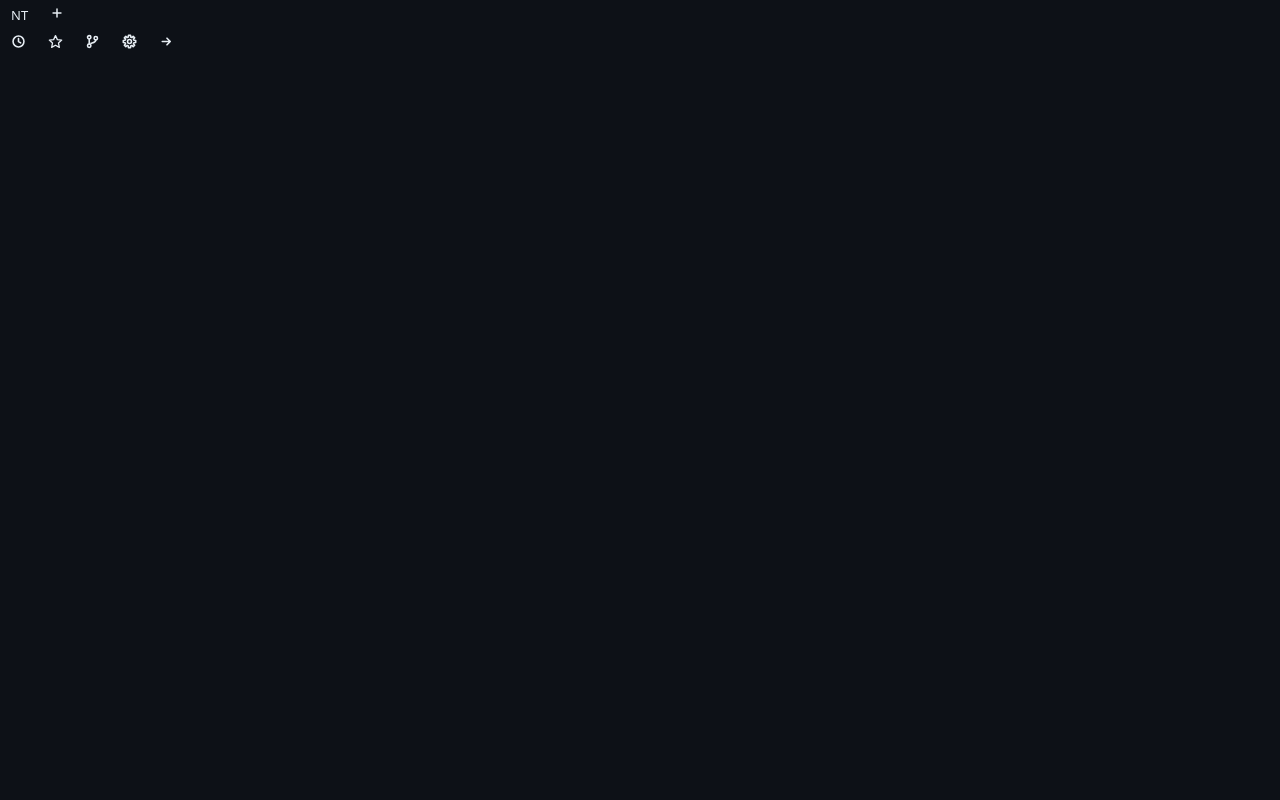
Test case: Kokpit rayı: karonun yanında ad ve renk › Esc vazgeçiyor; kutu sökülürken gelen odak kaybı kaydetmiyor
This screenshot has width=1280, height=800.
Right-click the button with class "grail-item" at (20, 15), box [0,2,39,28]
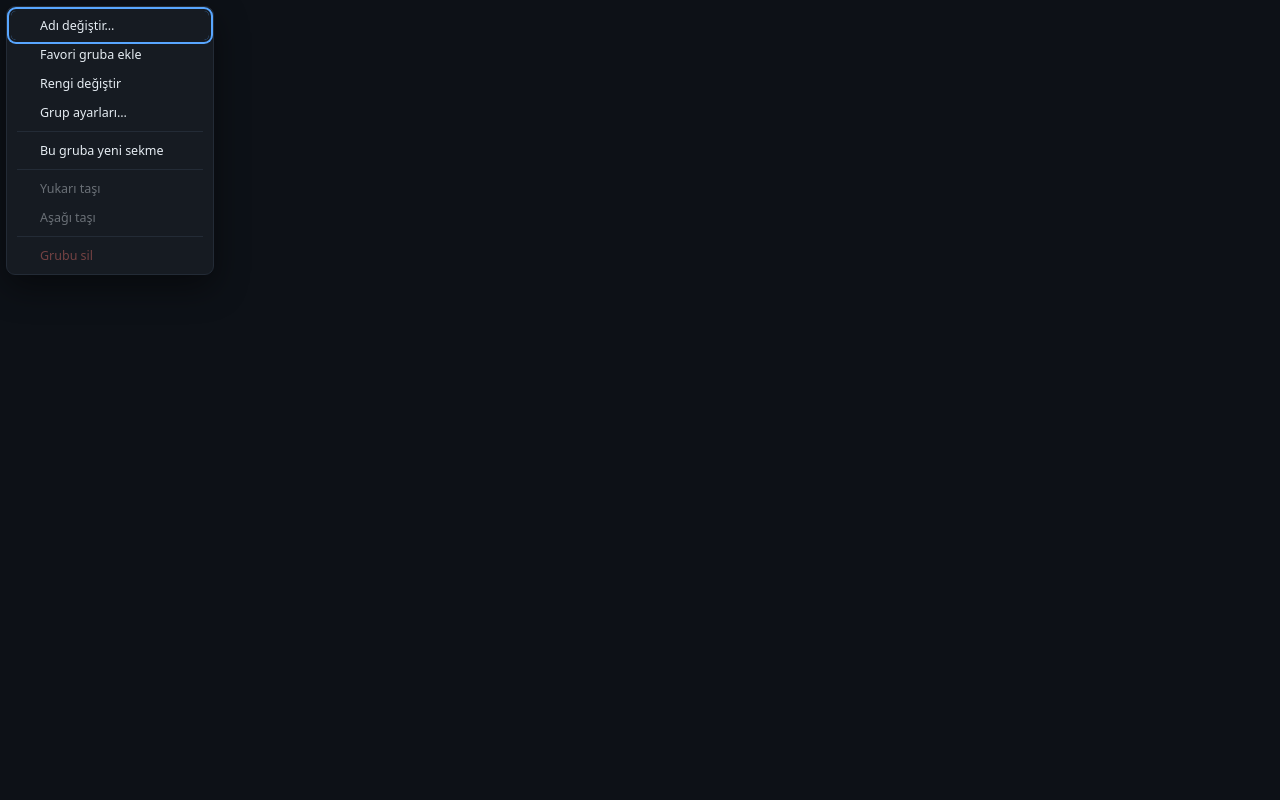
Click the menu item with class "ctx-item" showing "Adı değiştir…" at (110, 26), box [11,11,209,40]
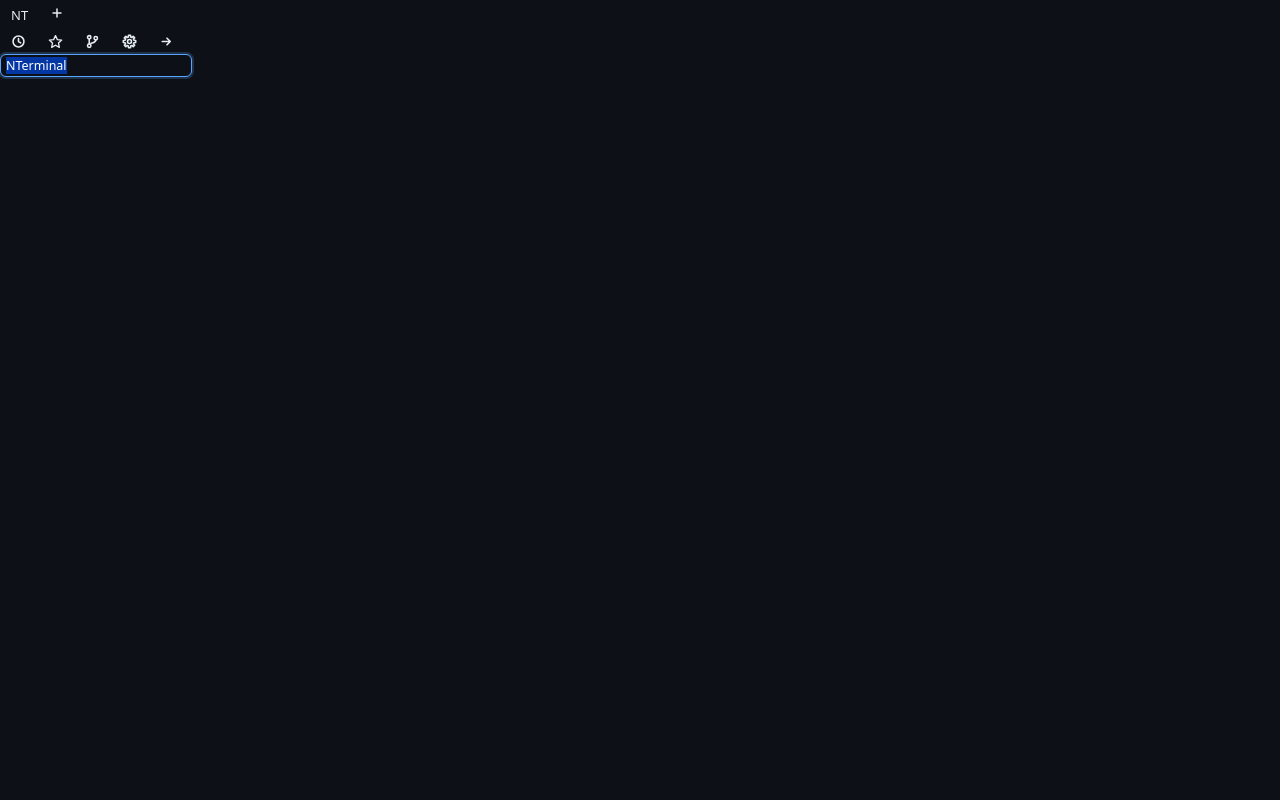
Replace the text in the field with class "rename-input" with "yarım" at (96, 66), box [0,54,192,77]
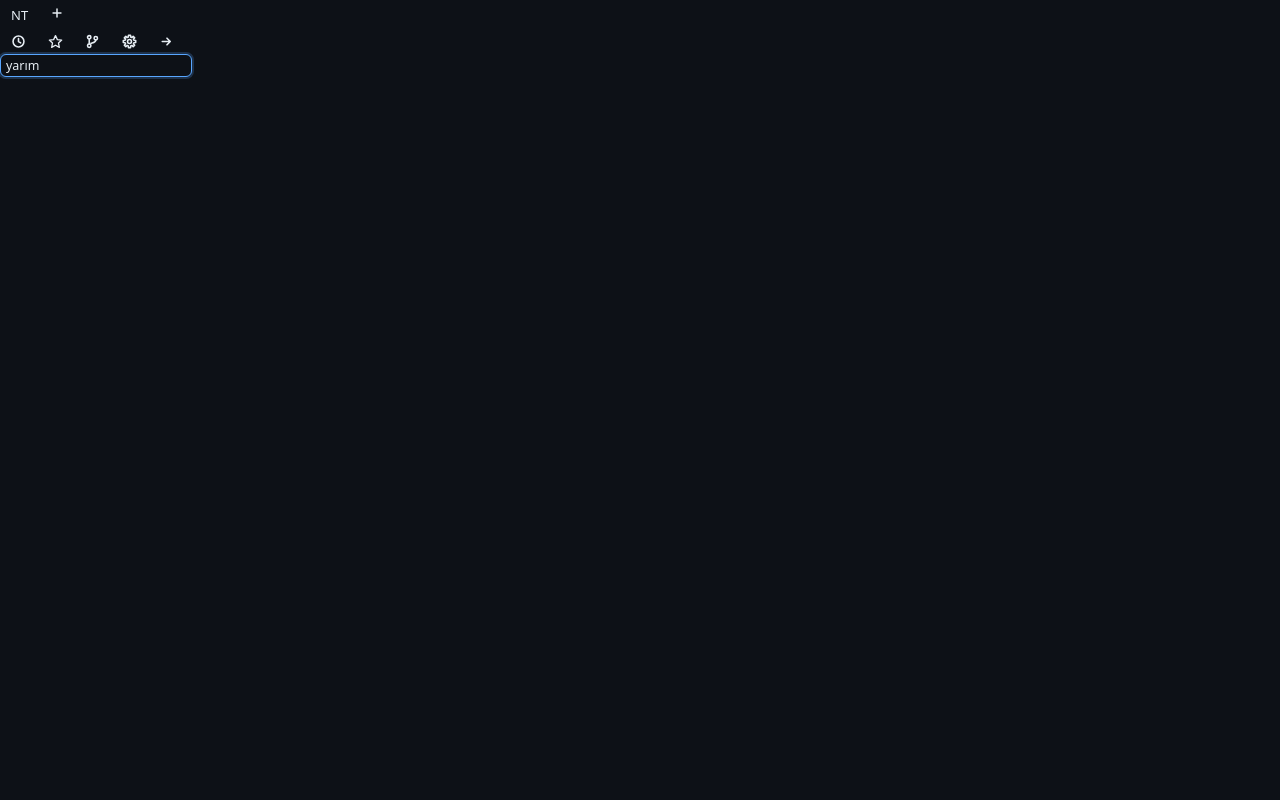
Press Escape in the field with class "rename-input", box [0,54,192,77]
Leave the field with class "rename-input", box [0,54,192,77]
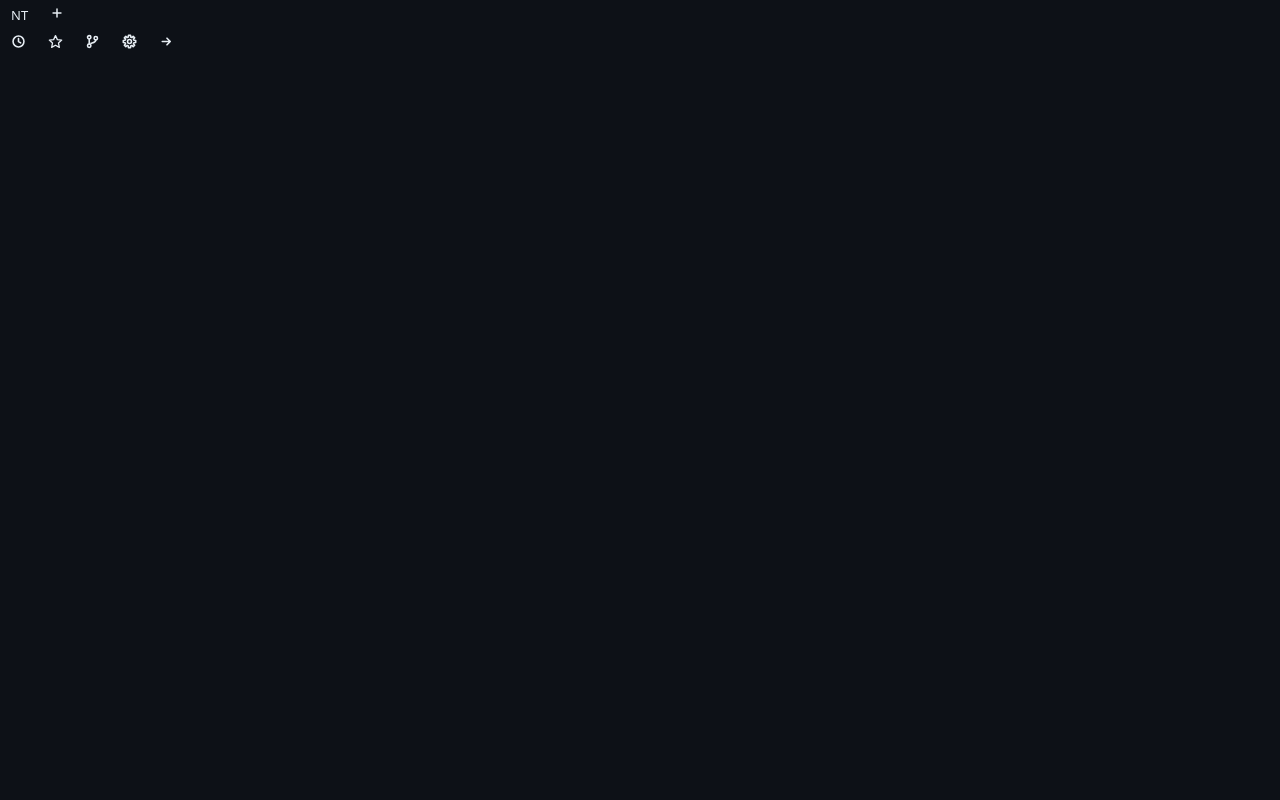
Expected: the dialog with class "grail-pop" is gone
